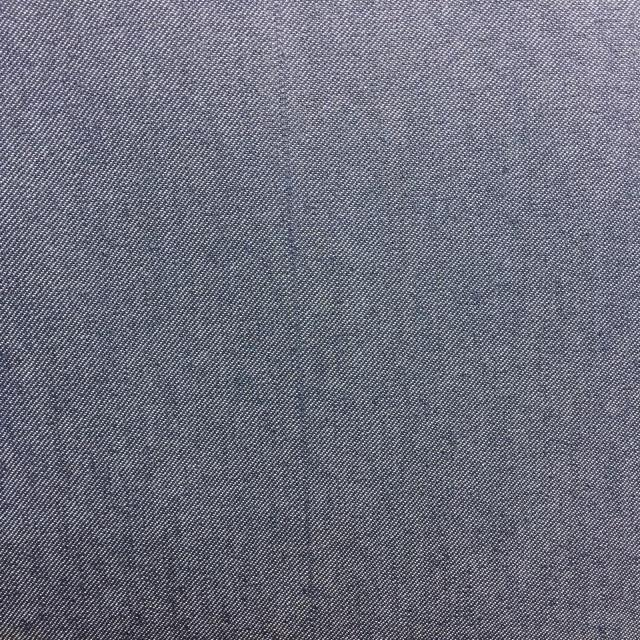Line: (268, 0, 332, 638)
